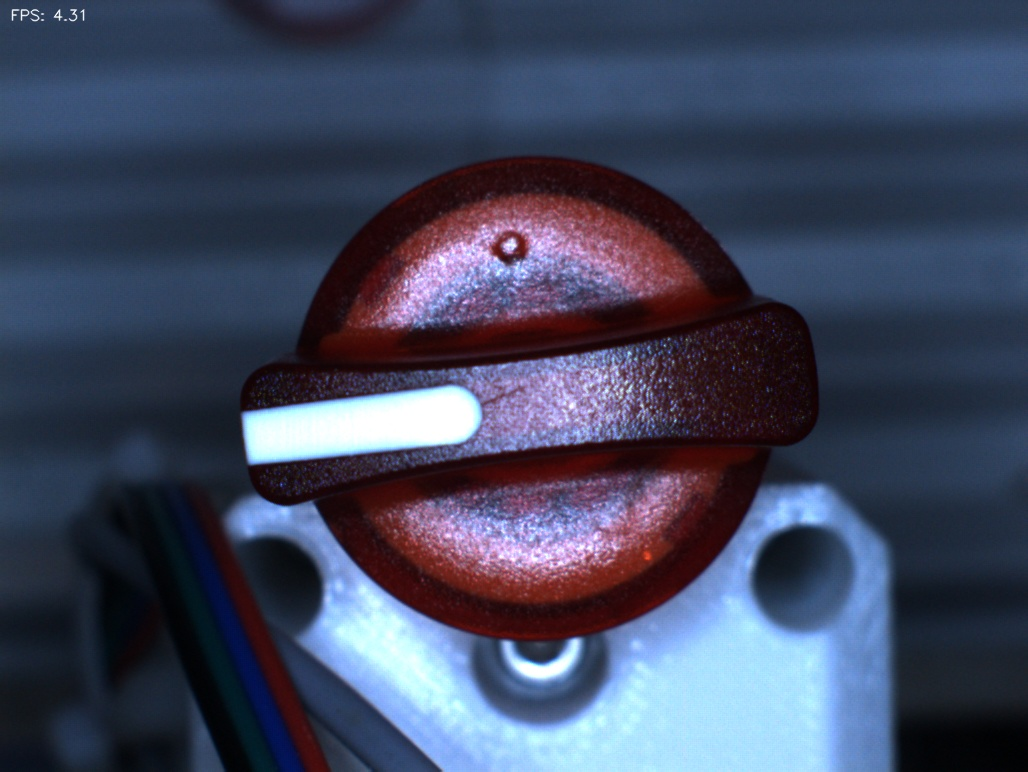Choc: (467, 210, 544, 287)
